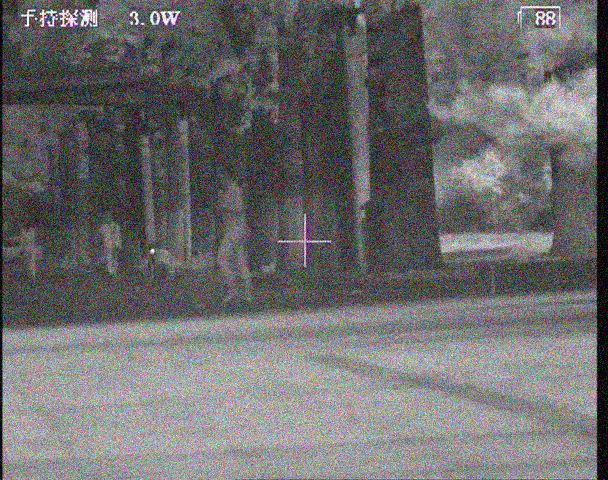my: (149, 247, 156, 255)
